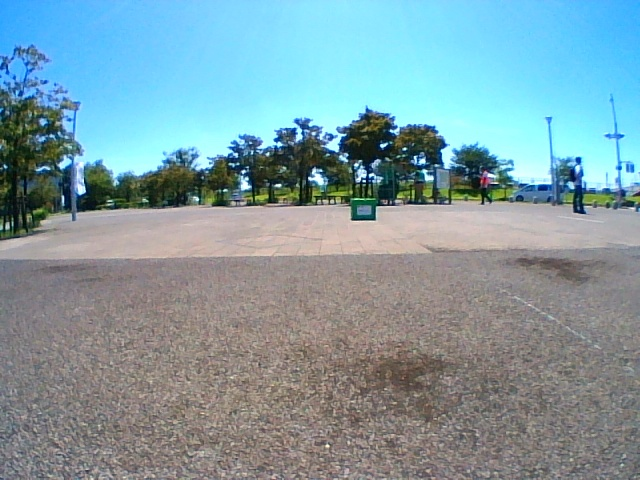green_box: (351, 197, 376, 220)
